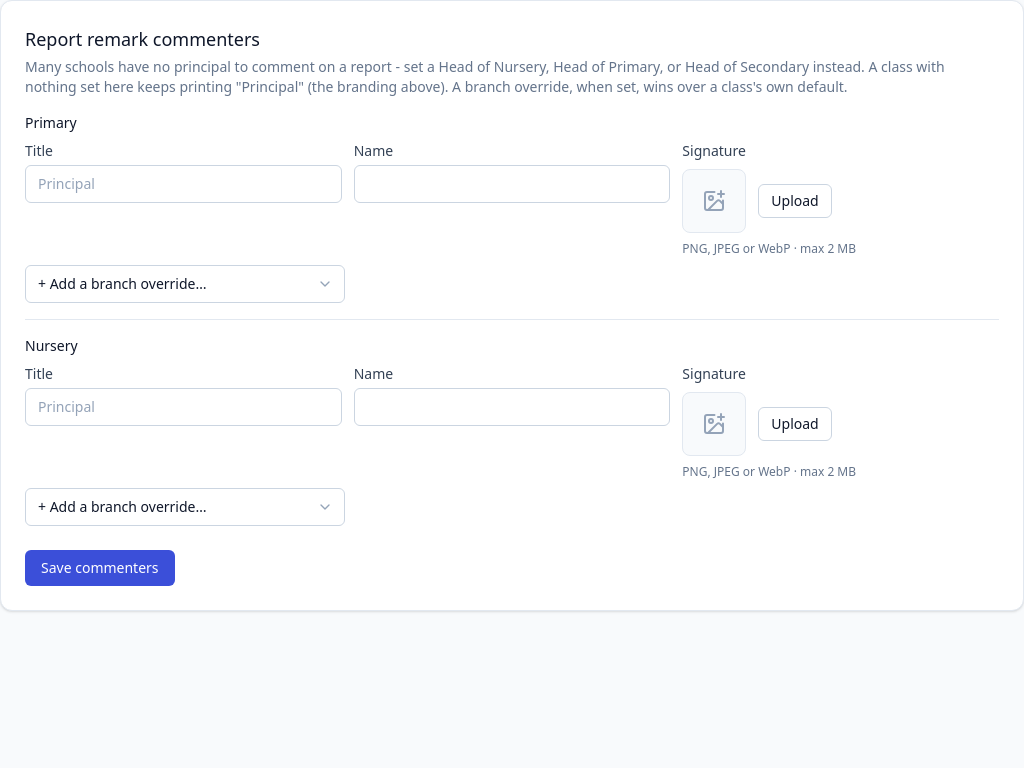
it: RemarkCommentersCard › saves only fully-filled rows, dropping a blank one so the level falls back to Principal
Expected: the heading "Primary" is shown, [25,113,77,132]
Type "Head of Primary" into the 1st field with placeholder "Principal" at (183, 184), box [25,165,342,203]
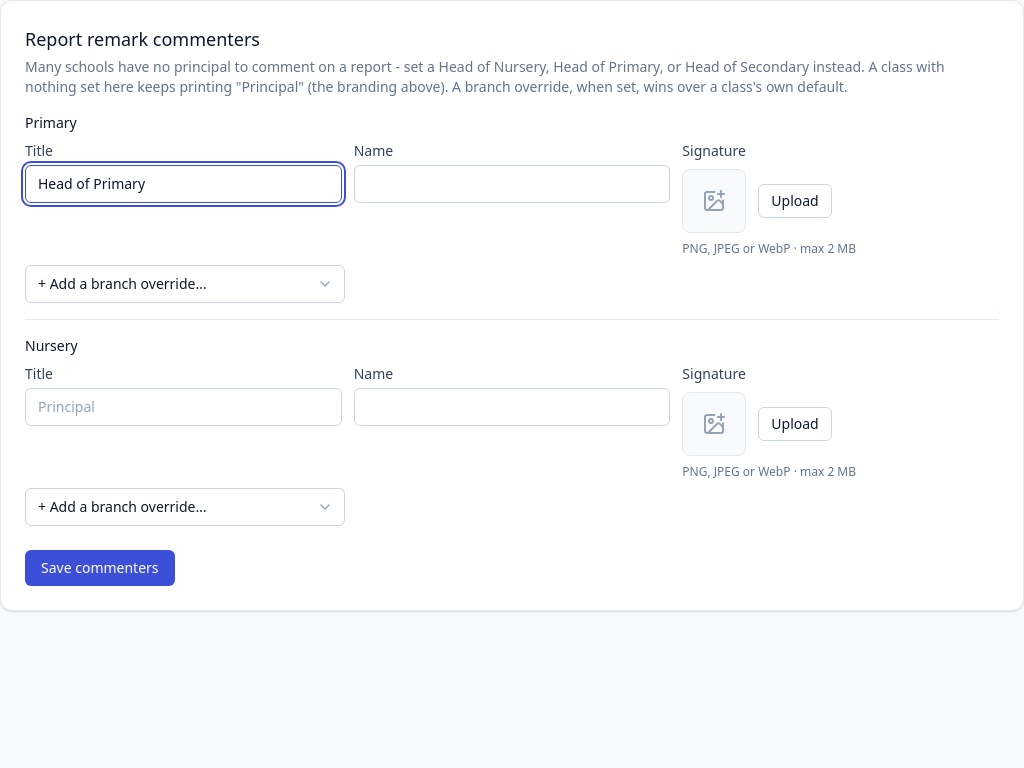
Type "Mrs Ade" into the 2nd field at (512, 184), box [354,165,670,203]
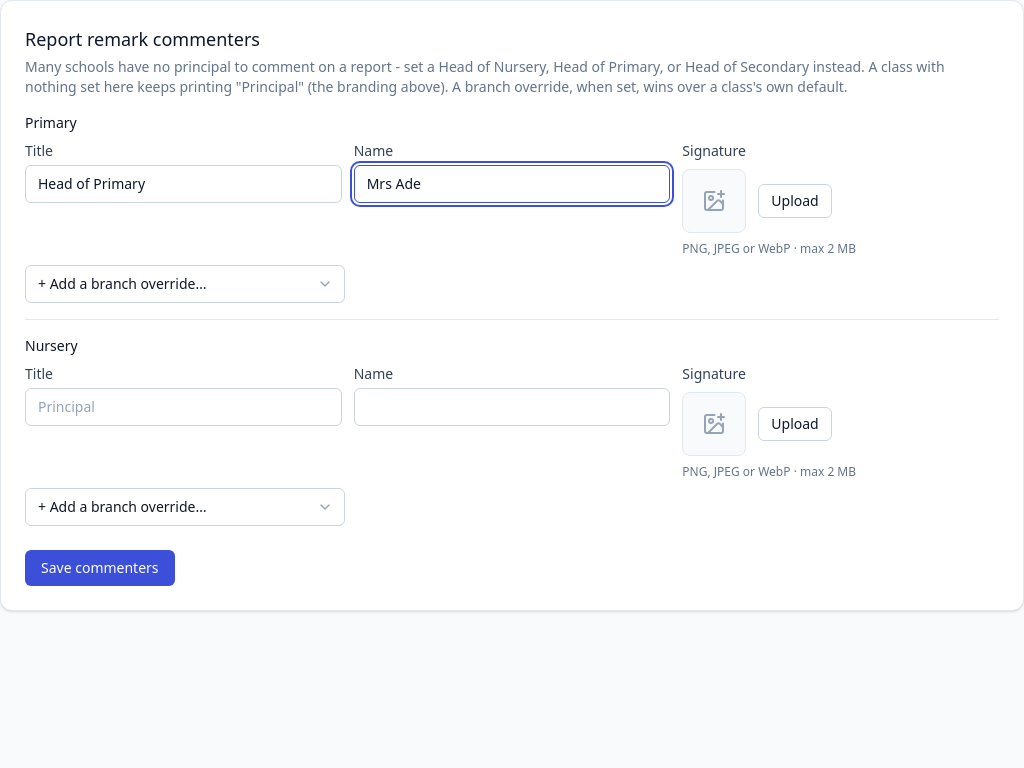
Click the button "Save commenters" at (100, 568), box [25,550,174,586]
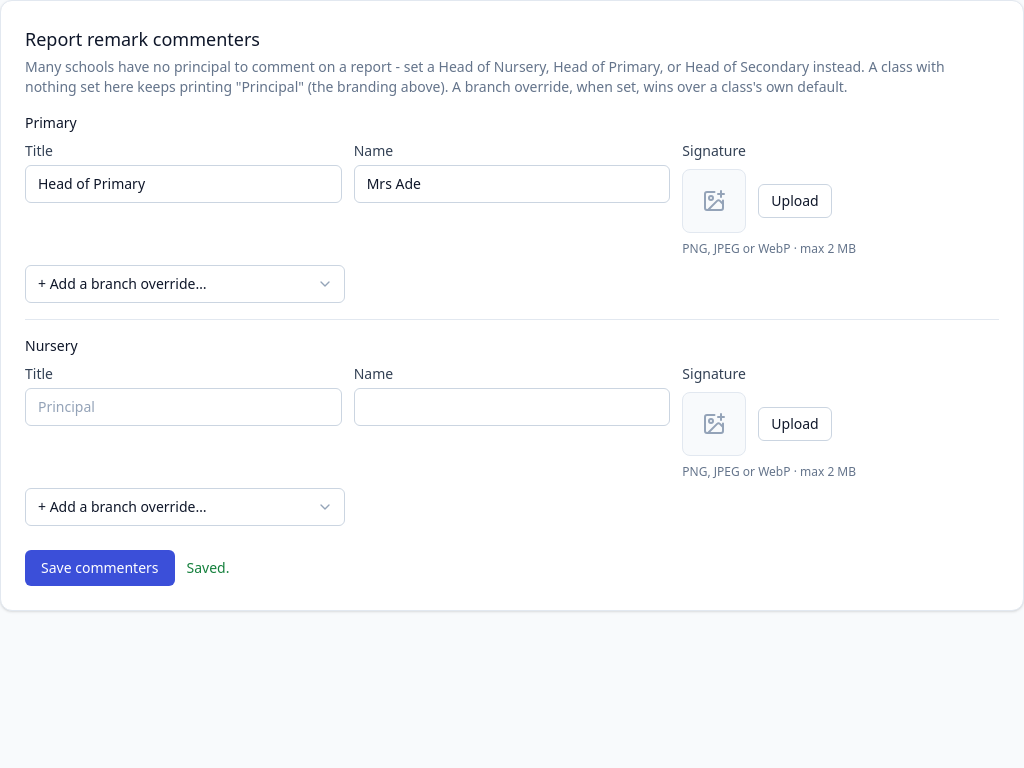
Expected: the text "Saved." is shown, [186,558,229,578]
